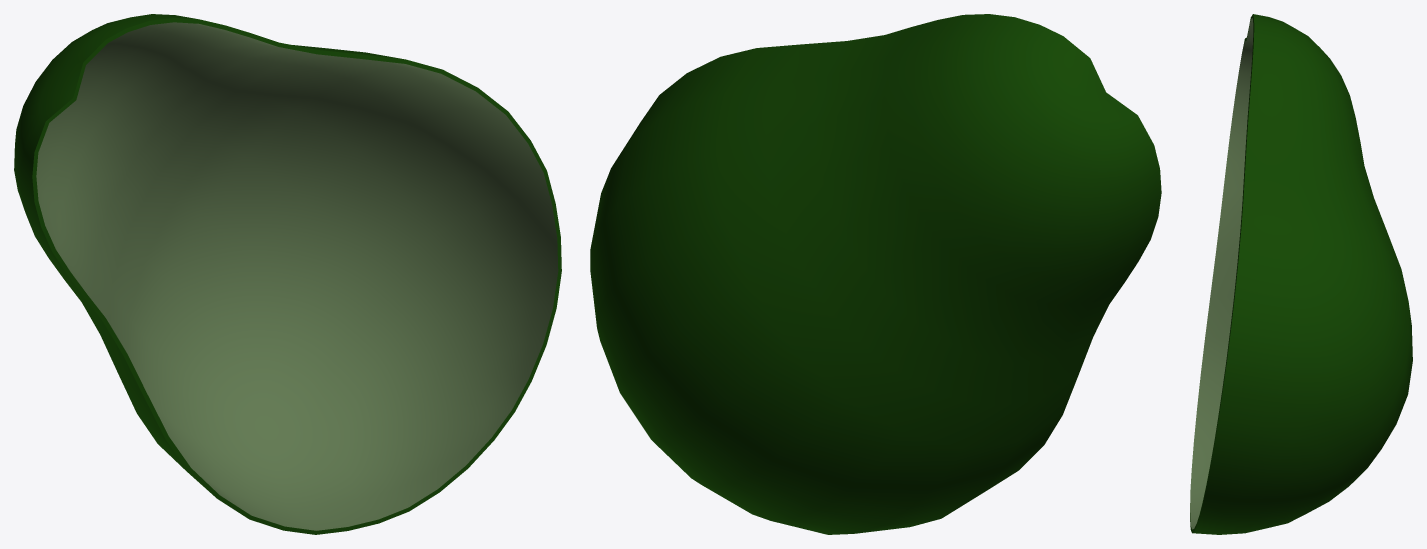
File: Avocado Peel.fbx
3 views of the same model, side by side, from view 1: azimuth 30°, elevation 25°; view 2: azimuth 150°, elevation 25°; view 3: azimuth 270°, elevation 25° (orthographic). The views are drawn at different scales.
Parts seen in each view (by area): view 1: pSphere1; view 2: pSphere1; view 3: pSphere1.
Part boxes in pixels (x1,y1,x2,y2): pSphere1: [14, 14, 561, 534]; pSphere1: [590, 14, 1161, 534]; pSphere1: [1190, 14, 1412, 534].
Size of the model in its own units: 6.07 by 5.86 by 2.81.
